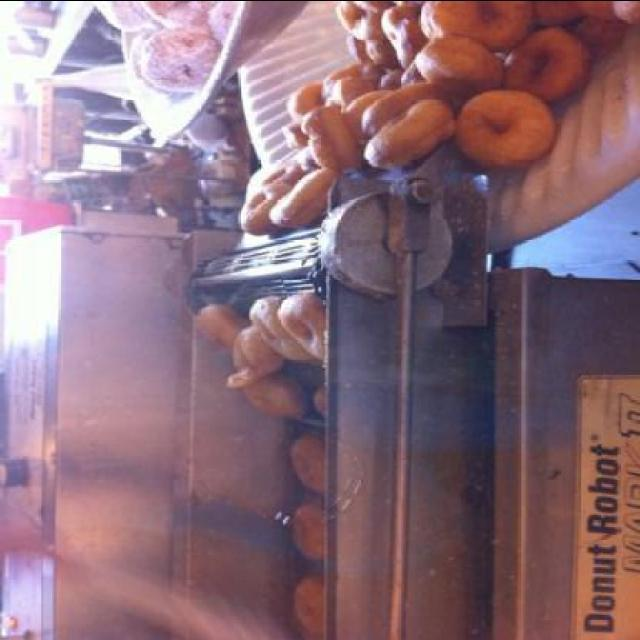Donuts: (184, 1, 624, 633)
